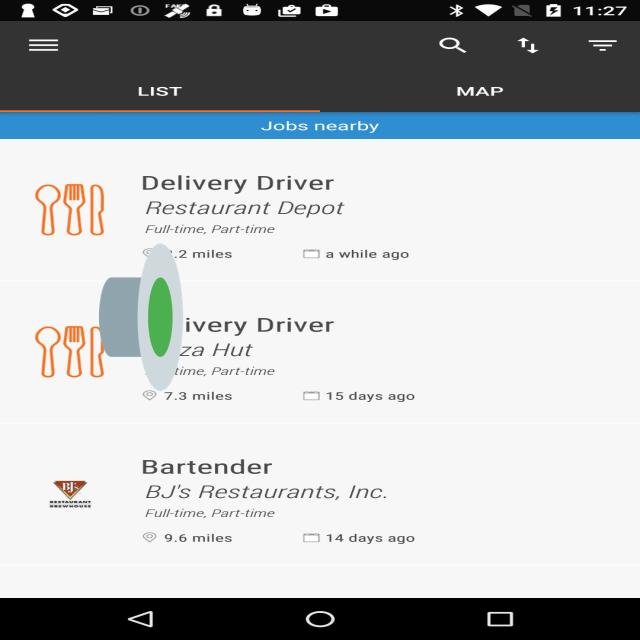social proof: (99, 181, 183, 453)
